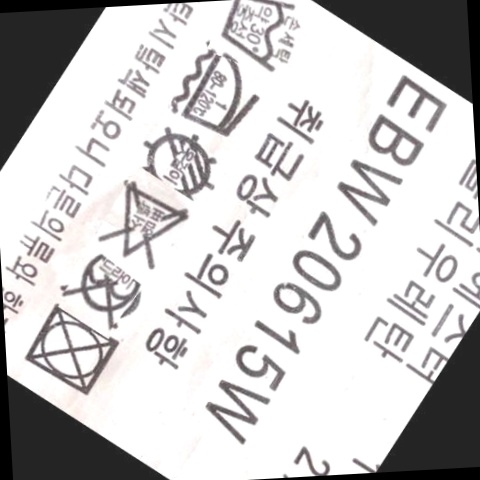DN_dry_clean: (70, 250, 146, 318)
DN_tumble_dry: (26, 304, 117, 397)
hand_wash: (223, 0, 303, 72)
iron_low: (183, 47, 256, 141)
line_dry_in_shade: (136, 123, 219, 198)
non_chlorine_bleach: (107, 186, 184, 266)
